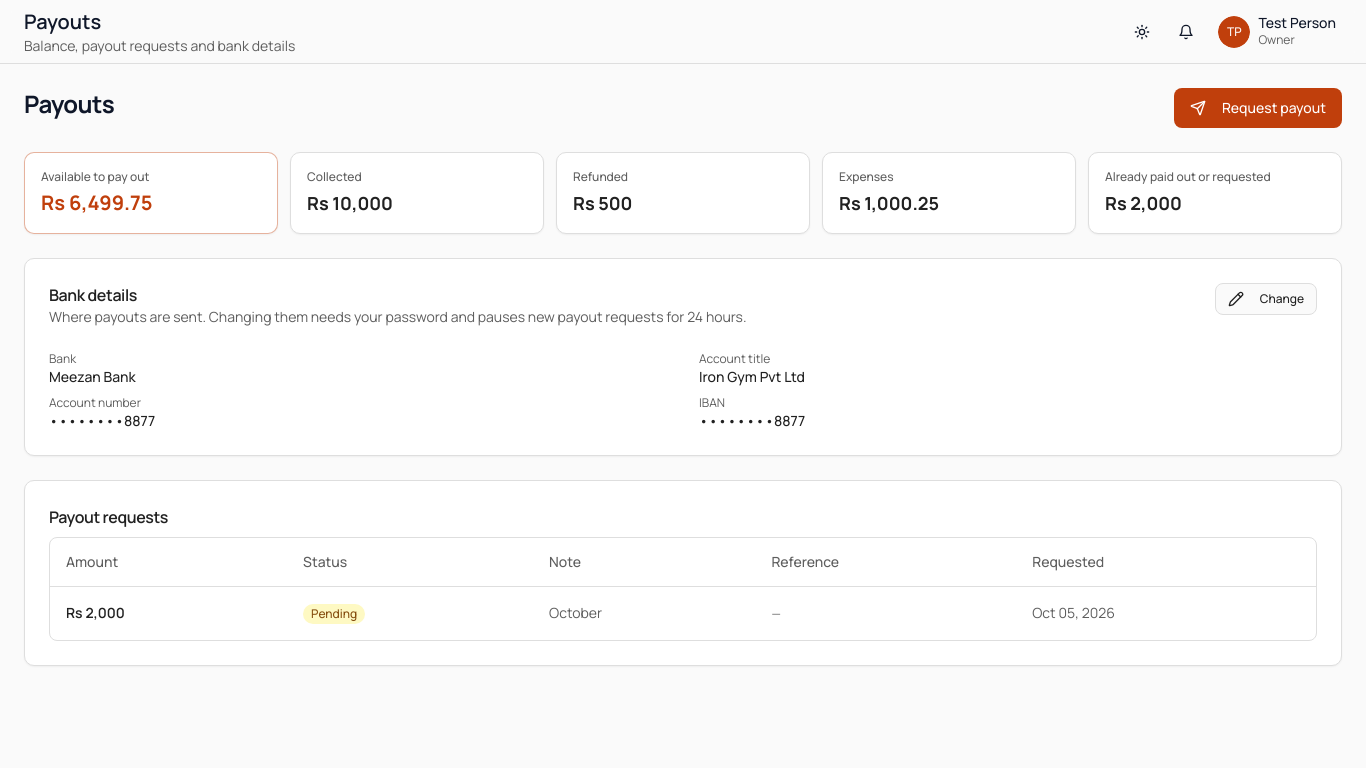
Test: Bank details need re-authentication (SEC-13, NEW-35) › re-auth required: the server’s message stays in the dialog and nothing is reported saved
Click the button "Change" at coordinates (1266, 299), box [1215,283,1317,315]
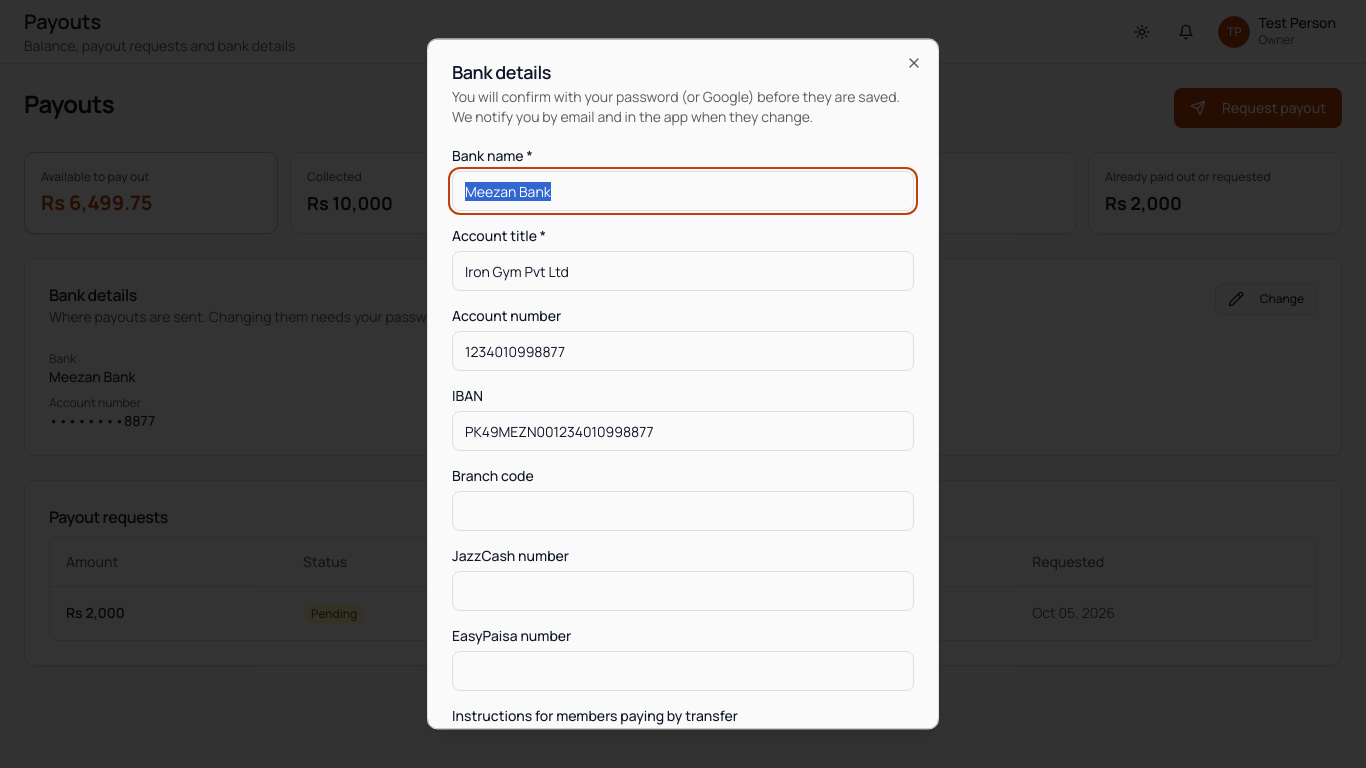
Replace the text in the field labelled "Account number" with "9998887776665" at coordinates (683, 351), box [452,331,914,371]
(page scrolled)
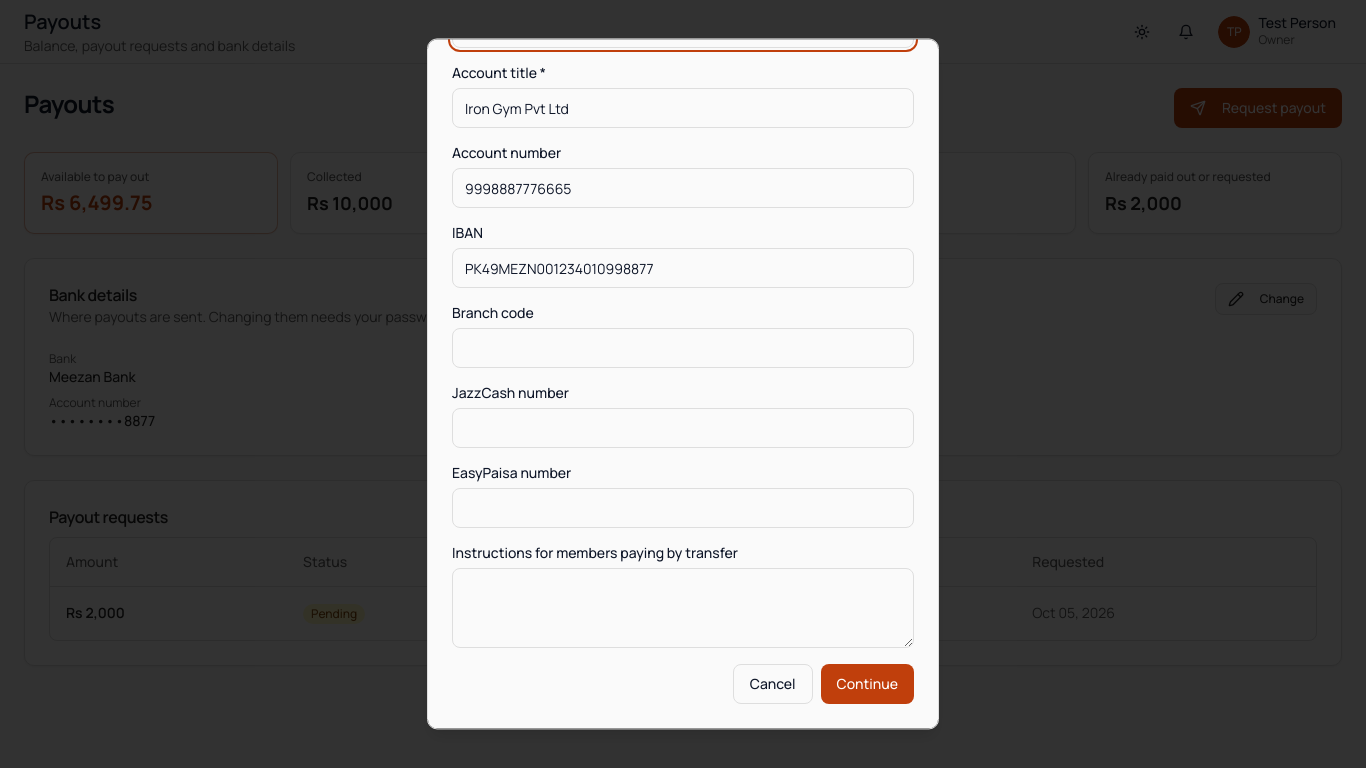
Click the button "Continue" at coordinates (867, 684), box [821,664,914,704]
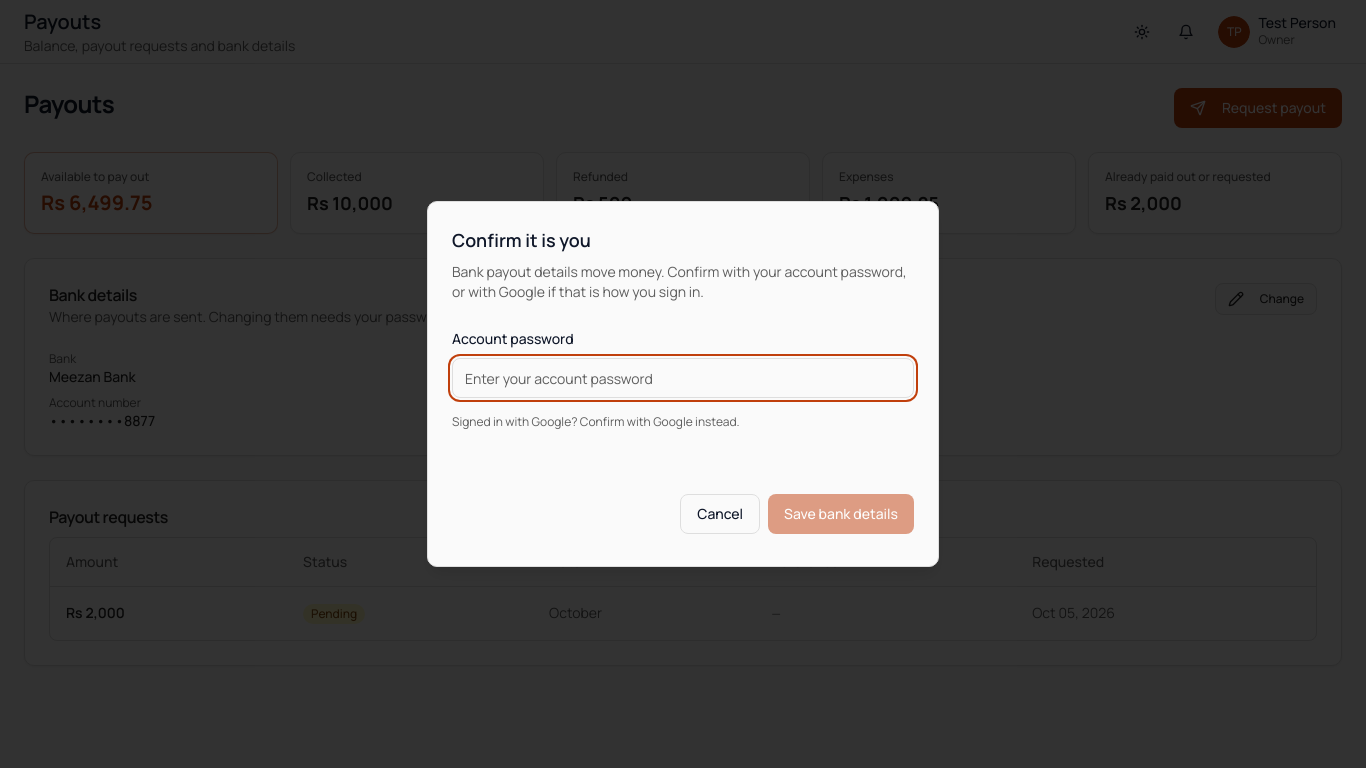
Type "wrong" into the password field labelled "Account password" at coordinates (683, 378), box [452,358,914,398]
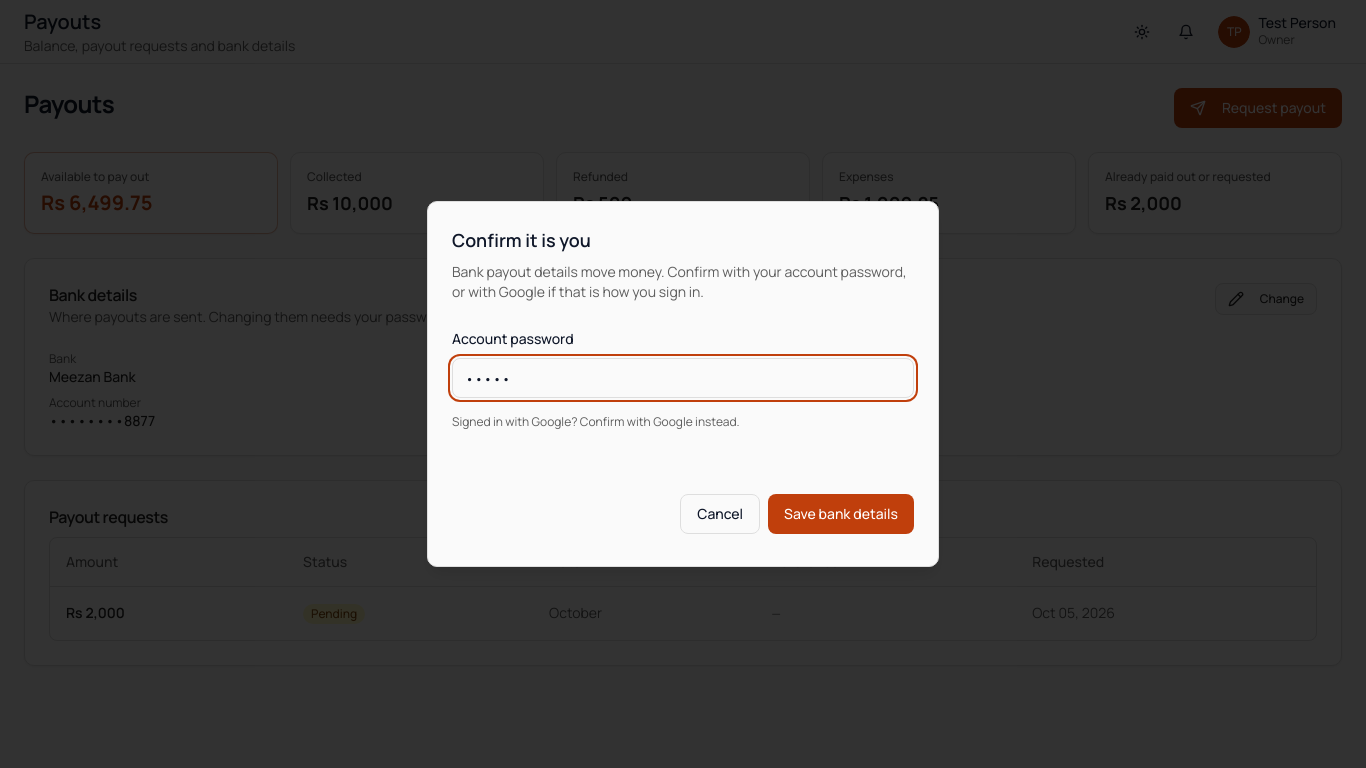
Click the button "Save bank details" at coordinates (841, 514), box [768,494,914,534]
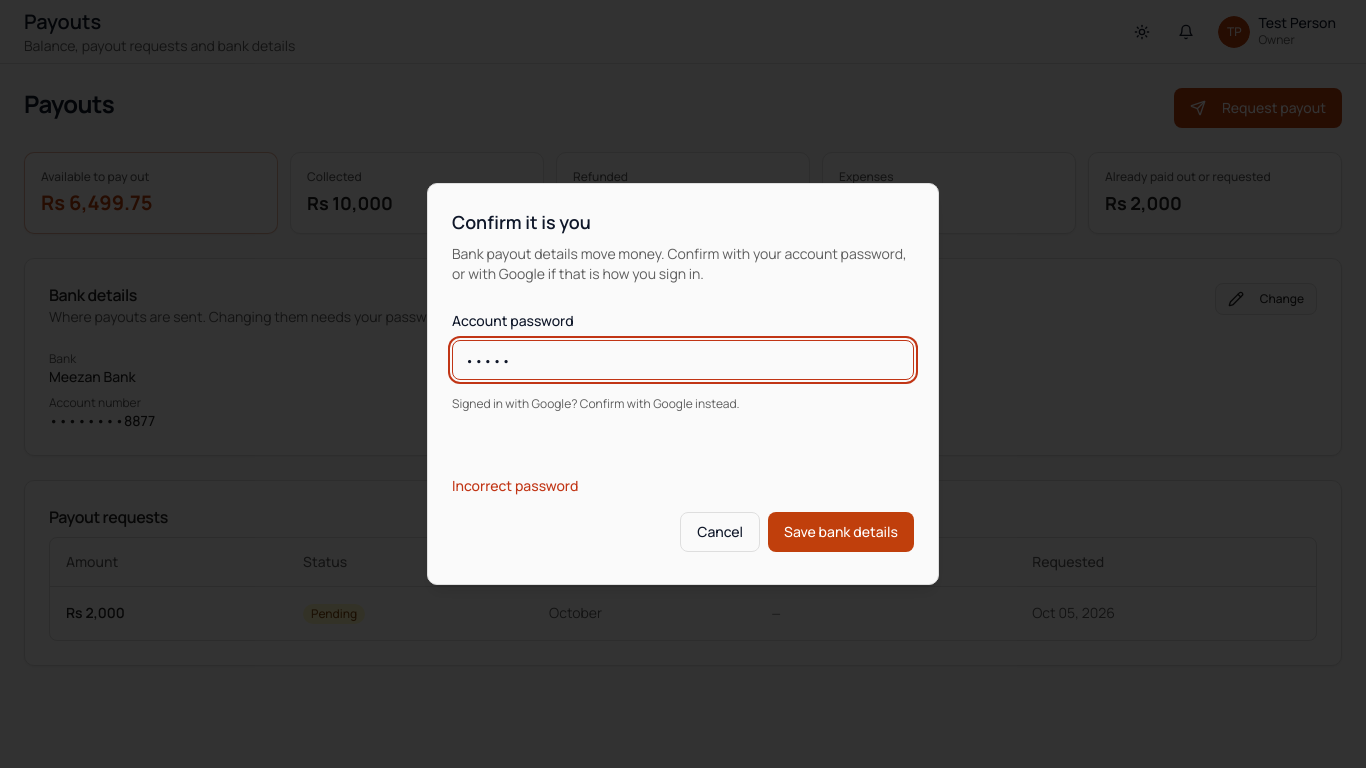
Expected: the text "Incorrect password" is shown, [452,476,578,495]
